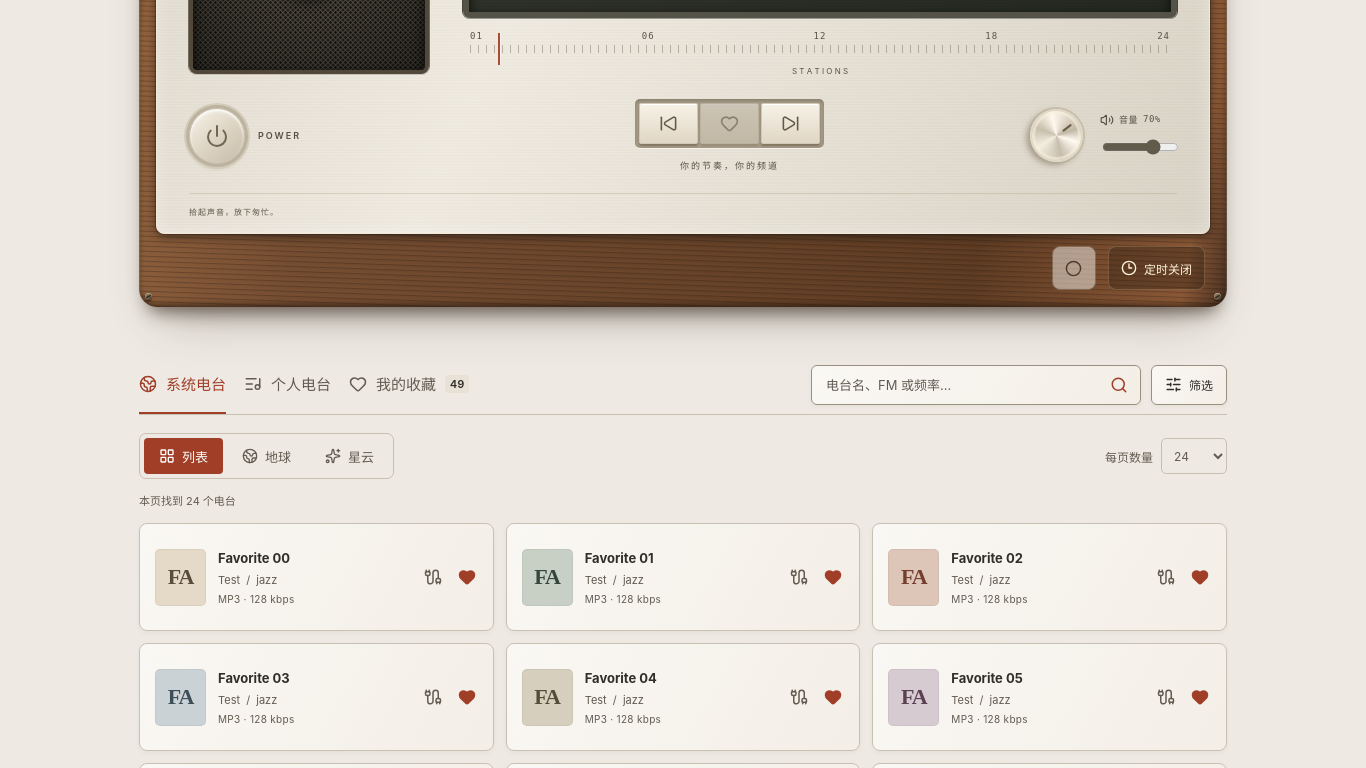
moves to the preceding page after deleting the last item on the final page
(page scrolled)
Check: the button with aria-label "收听 Favorite 00" is shown, box [155,549,417,606]
Click the tab "我的收藏 49" at (409, 385), box [349,355,469,414]
(page scrolled)
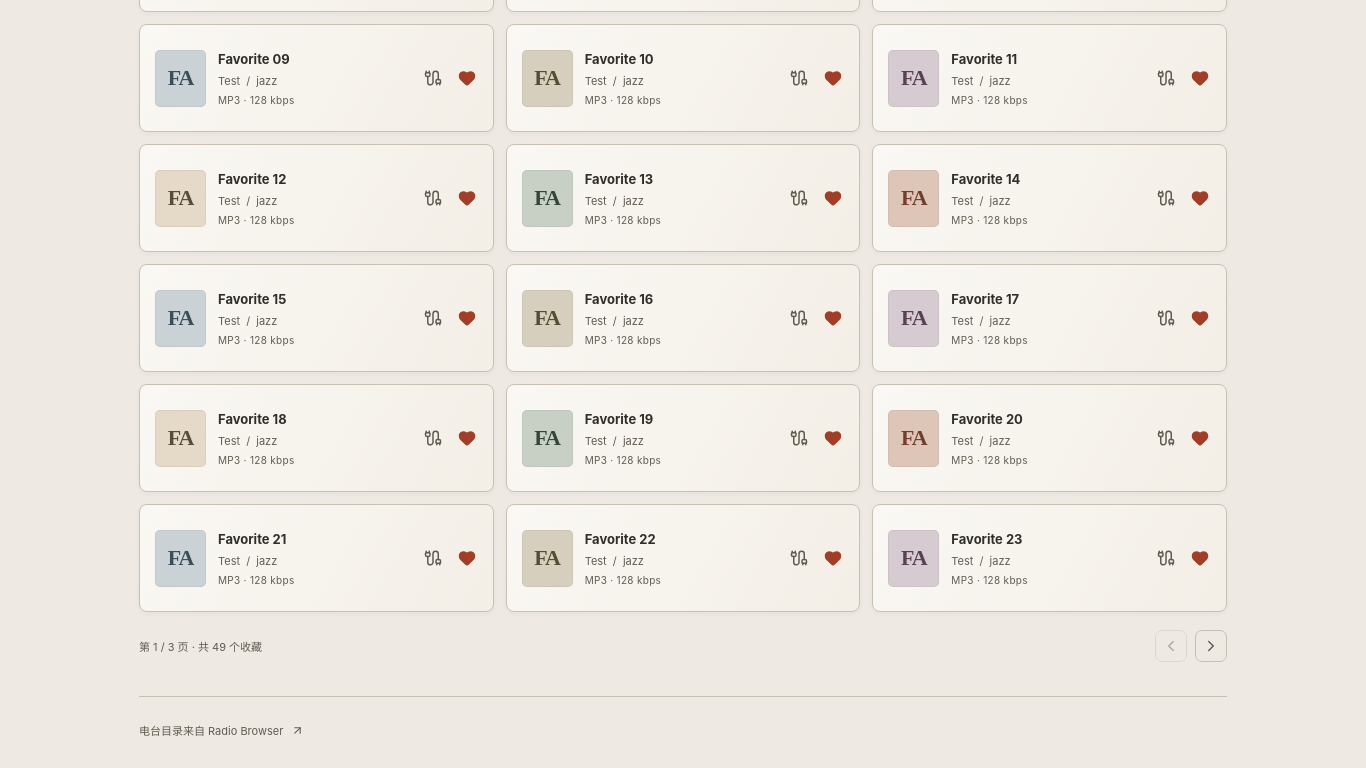
Check: the text "第 1 / 3 页 · 共 49 个收藏" is shown, box [139,638,262,654]
Click the button named "下一页" at (1211, 646), box [1195,630,1227,662]
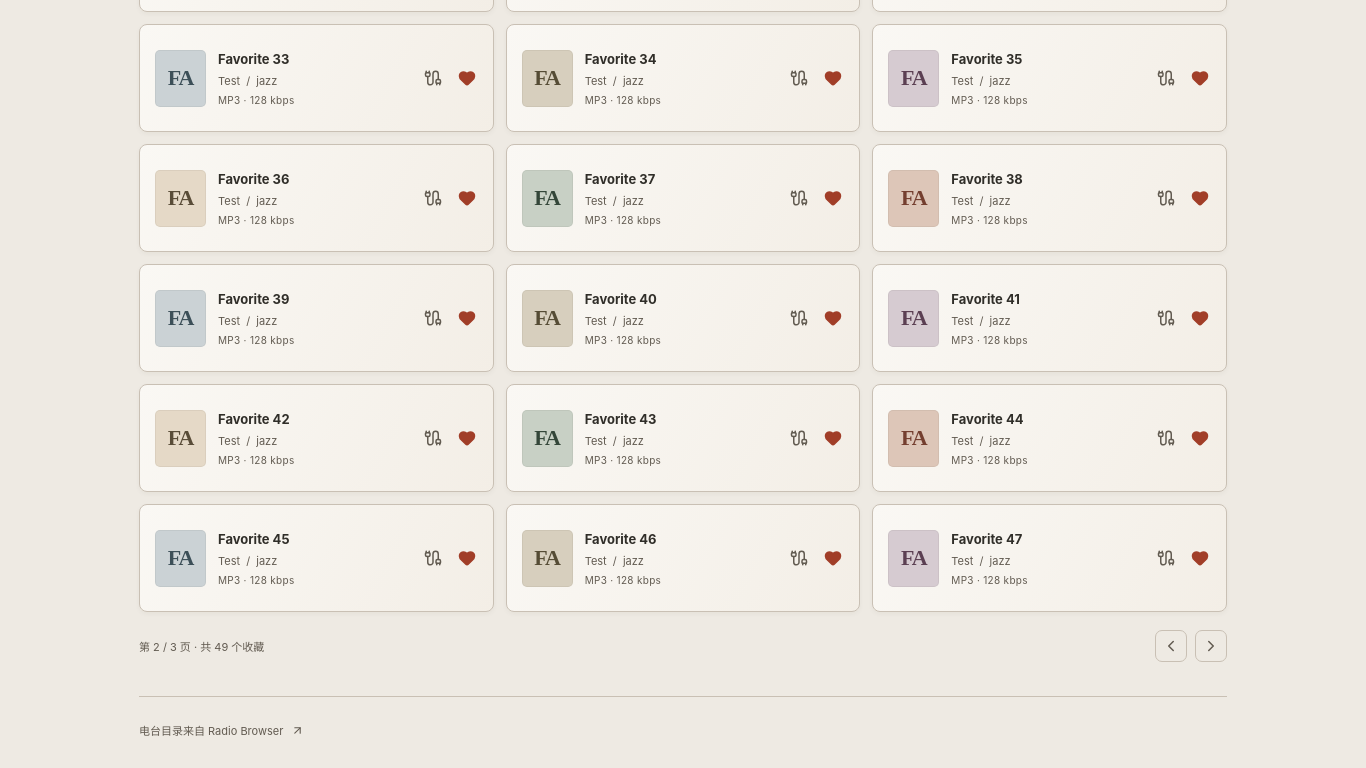
Click the button named "下一页" at (1211, 646), box [1195,630,1227,662]
(page scrolled)
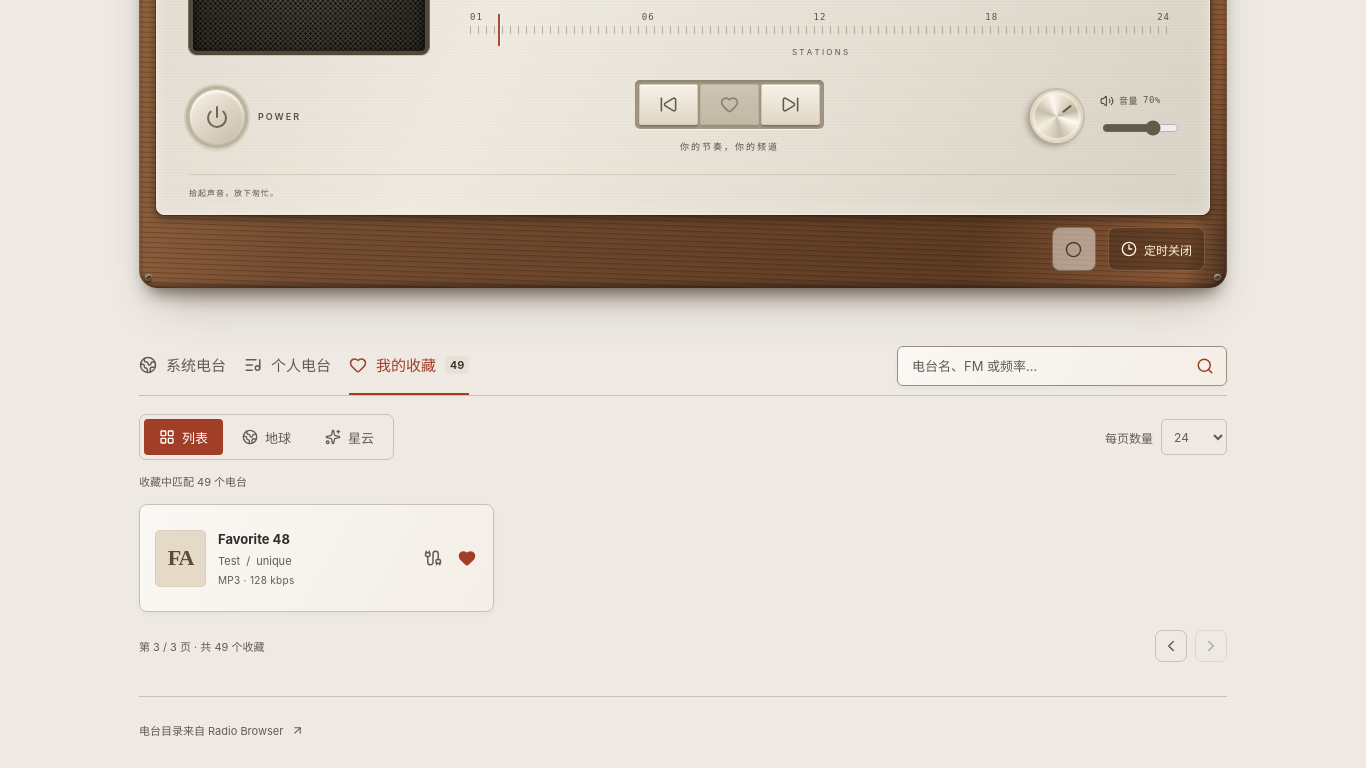
Check: the button with aria-label "收听 Favorite 48" is shown, box [155,530,417,587]
Click the button named "取消收藏 Favorite 48" at (467, 558), box [449,536,485,580]
(page scrolled)
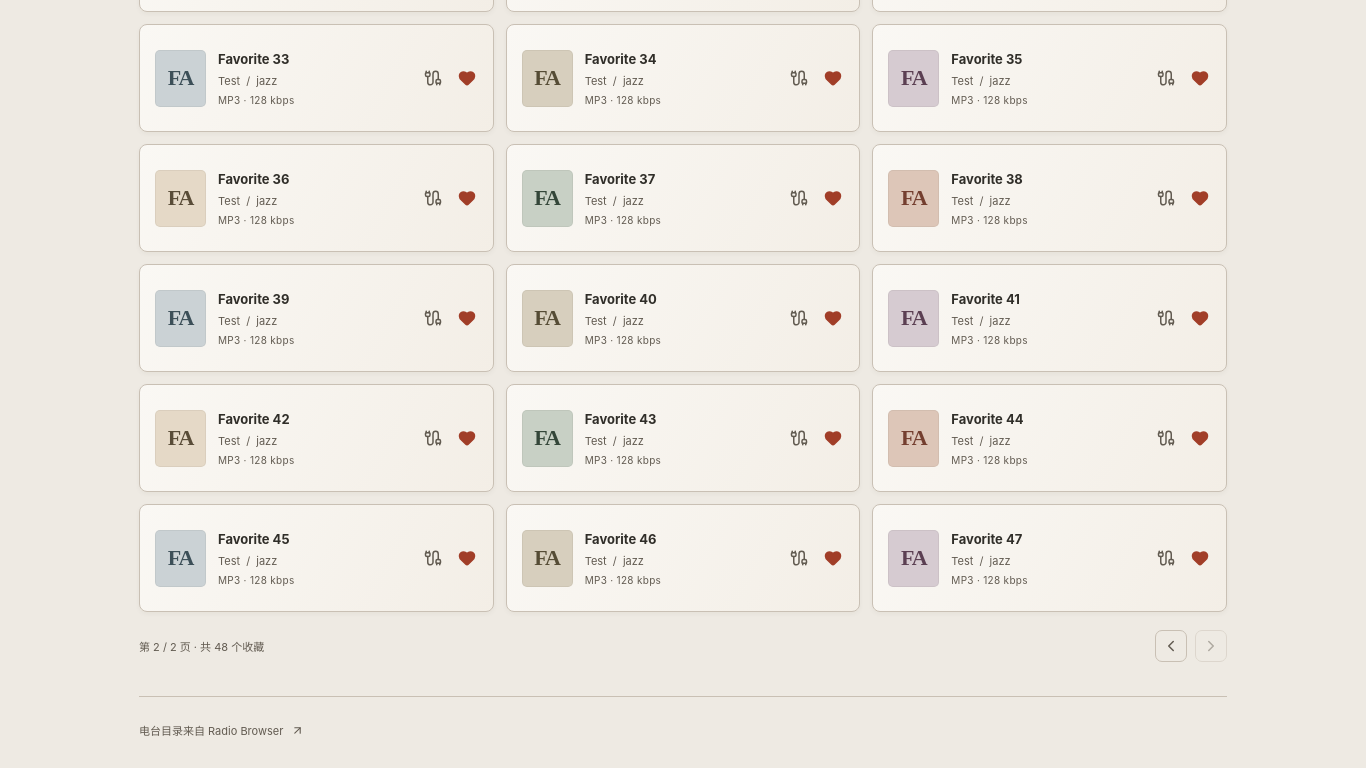
Check: the text "第 2 / 2 页 · 共 48 个收藏" is shown, box [139,638,264,654]
Check: the number of elements with class "station-card" is 24
